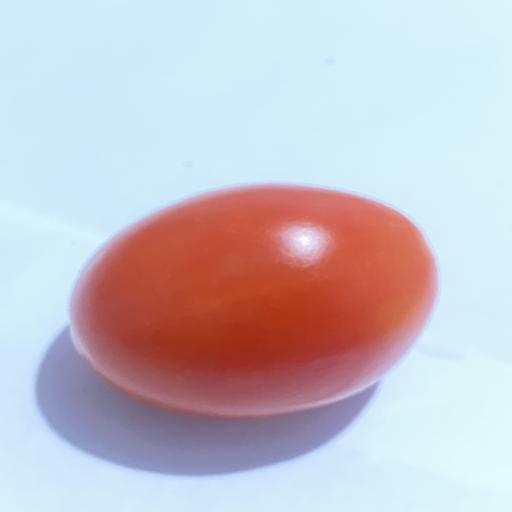ripe: (71, 185, 437, 418)
